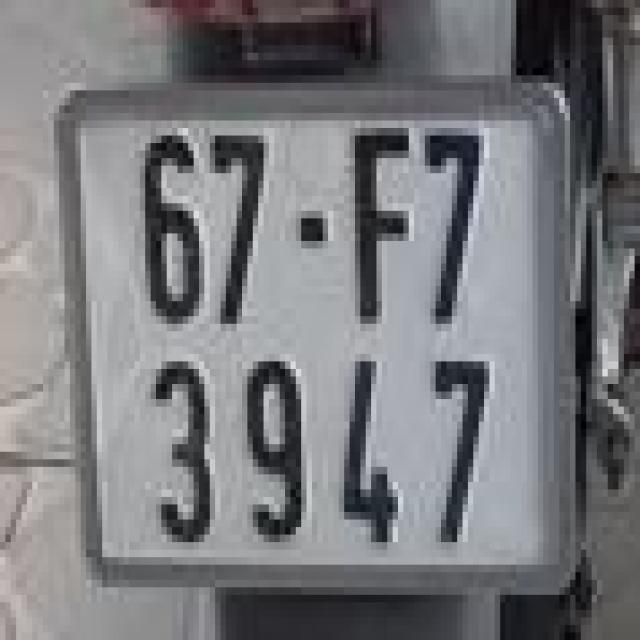3: (142, 335, 218, 576)
4: (339, 335, 409, 569)
6: (132, 124, 218, 343)
7: (417, 120, 497, 339), (409, 354, 489, 565), (207, 116, 282, 328)
9: (240, 335, 310, 561)
F: (336, 120, 417, 332)
